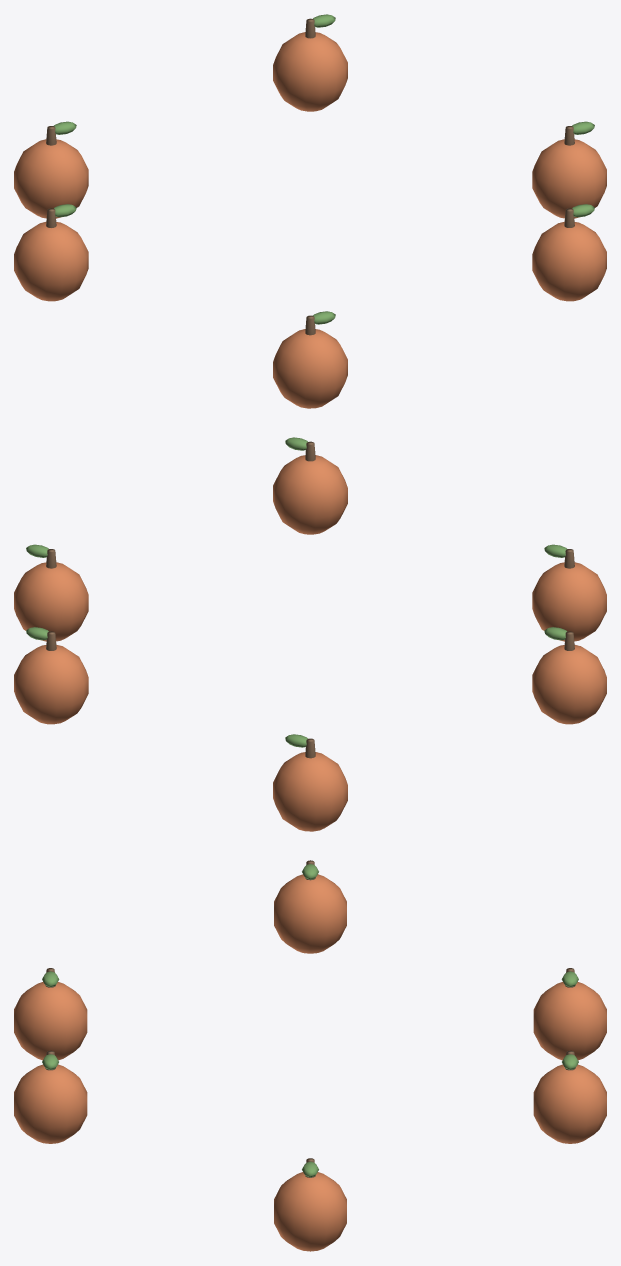
Rendered from tree_fruit_layer_spring.glb.
The picture shows the model from 3 angles, top to bottom: view 1: azimuth 30°, elevation 25°; view 2: azimuth 150°, elevation 25°; view 3: azimuth 270°, elevation 25°; orthographic projection.
Size of the model in its own units: 1.67 by 0.3635 by 1.46.
